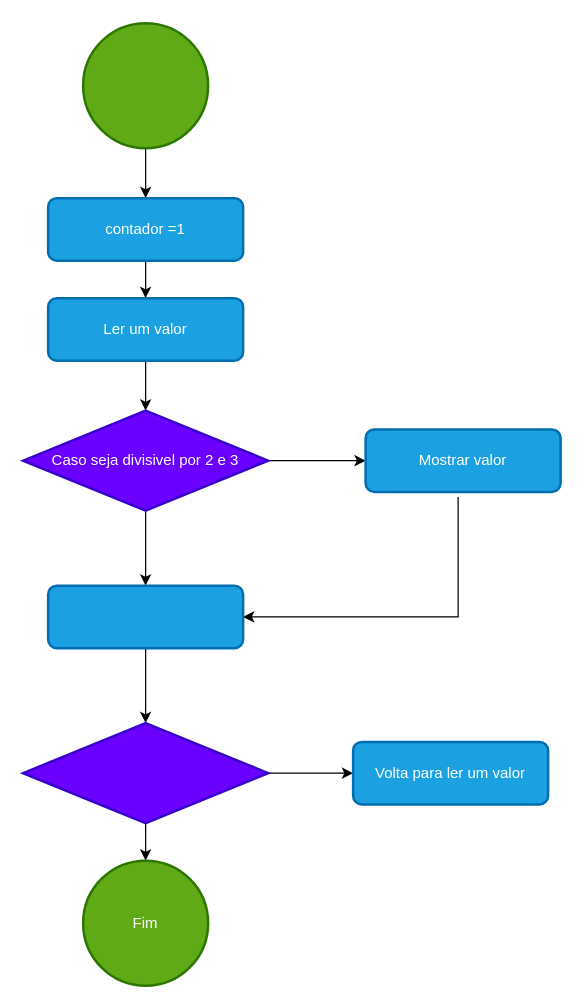
This 583x1008 diagram has some shape labels left out. Each missing label, with the box of its shape:
contador <= 4: (21, 721, 269, 824)
contador = contador + 1: (46, 584, 244, 649)
Inicio: (81, 21, 209, 149)
